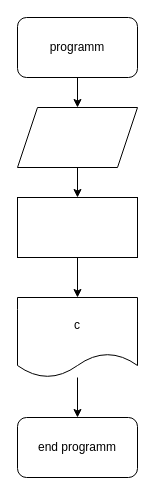
Image size: 155x495. Some labels were removed from this diagram. Each missing label, with the centre of its shape:
"a=1234 b c" belongs at [77,137].
"b=a*20/100 c=b*10/100" belongs at [77,227].
